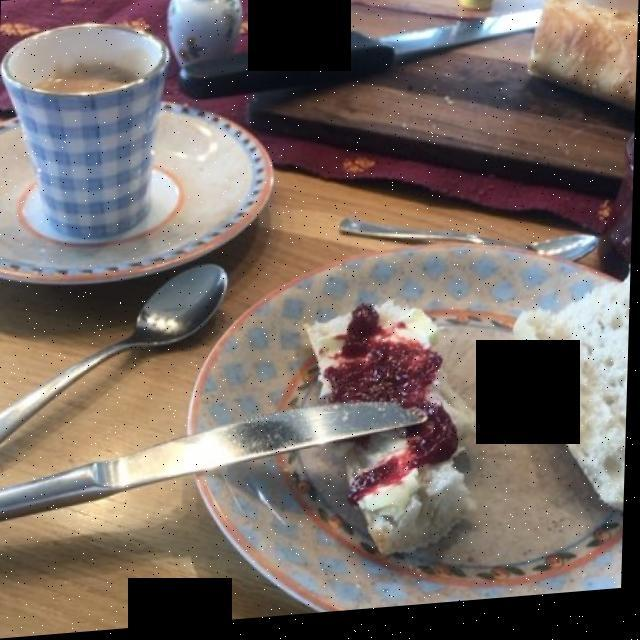bread: (298, 288, 627, 560)
coffee: (35, 63, 133, 102)
jam: (326, 298, 444, 514)
